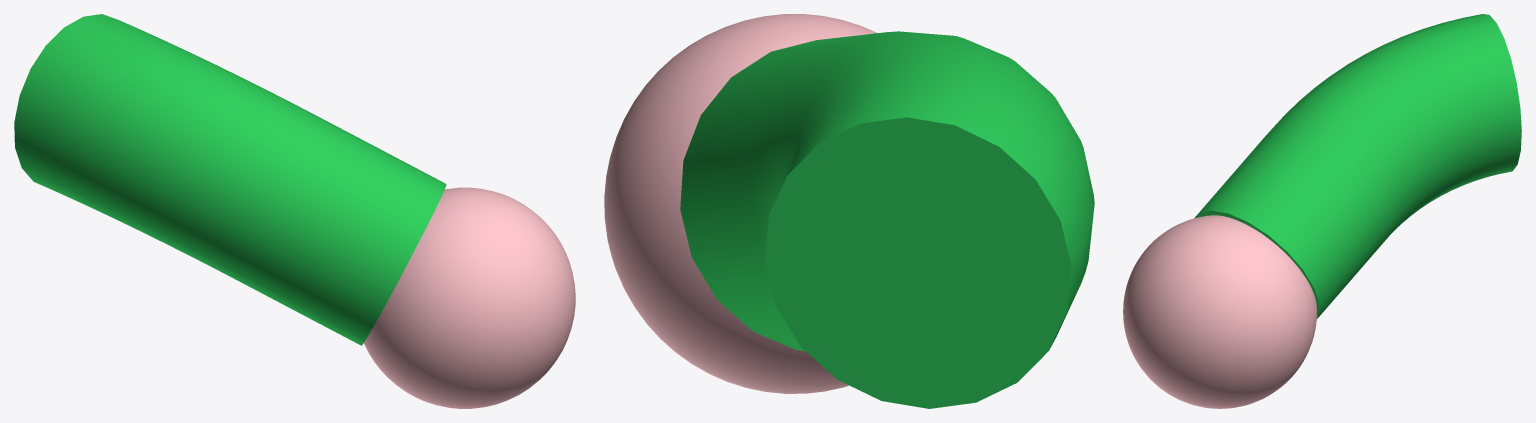
The model's file is Frijolito_BrazoIzq.obj.
3 renders of one model, left to right at view 1: azimuth 30°, elevation 25°; view 2: azimuth 150°, elevation 25°; view 3: azimuth 270°, elevation 25°, orthographic. The views are drawn at different scales.
Parts seen in each view (by area): view 1: BrazoIzq; view 2: BrazoIzq; view 3: BrazoIzq.
Boxes of the visible parts, left/top/right/bottom form: BrazoIzq: left=14, top=14, right=575, bottom=408; BrazoIzq: left=604, top=14, right=1094, bottom=408; BrazoIzq: left=1123, top=14, right=1521, bottom=408.
Bounding box in the file's own units: 4.55 × 3.47 × 4.46.
